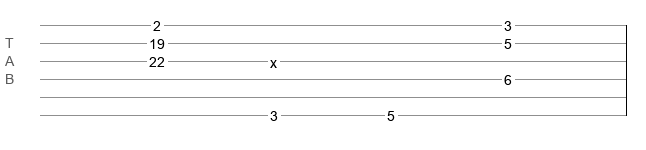19: (149, 36, 165, 46)
2: (153, 18, 161, 28)
22: (149, 54, 165, 64)
3: (270, 108, 278, 118), (504, 18, 512, 28)
5: (387, 108, 395, 118), (504, 36, 512, 46)
6: (504, 72, 512, 82)
x: (270, 55, 277, 63)
